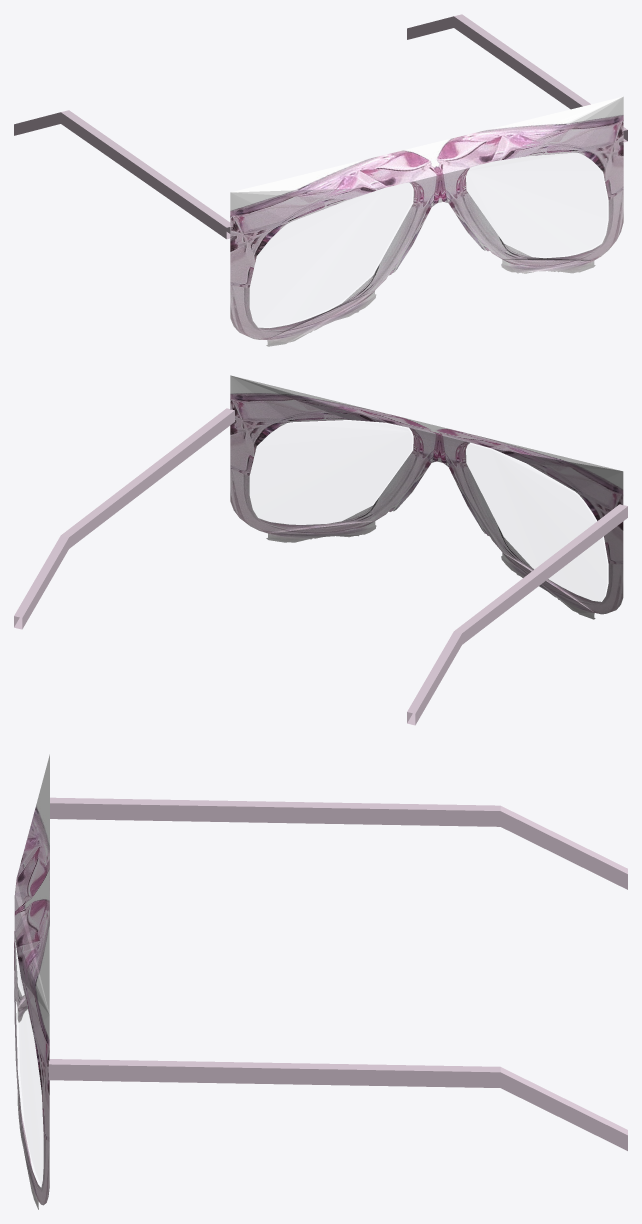
Rendered from smilen-elite-53_pink.glb.
The picture shows the model from 3 angles, top to bottom: view 1: azimuth 30°, elevation 25°; view 2: azimuth 150°, elevation 25°; view 3: azimuth 270°, elevation 25°; orthographic projection. The views are drawn at different scales.
Parts seen in each view (by area): view 1: frame_front, temple_viewer_left, temple_viewer_right; view 2: frame_front, temple_viewer_right, temple_viewer_left; view 3: temple_viewer_right, temple_viewer_left, frame_front.
Part boxes in pixels (x1=…): frame_front: x1=230, y1=96, x2=623, y2=346; temple_viewer_left: x1=14, y1=110, x2=232, y2=239; temple_viewer_right: x1=407, y1=14, x2=627, y2=142; frame_front: x1=230, y1=375, x2=623, y2=619; temple_viewer_right: x1=14, y1=408, x2=234, y2=629; temple_viewer_left: x1=407, y1=504, x2=627, y2=725; temple_viewer_right: x1=48, y1=1059, x2=627, y2=1150; temple_viewer_left: x1=50, y1=797, x2=627, y2=889; frame_front: x1=14, y1=754, x2=49, y2=1209.
Bounding box in the file's own units: 0.1449 × 0.0551 × 0.141.
3 materials, 2 textured.
